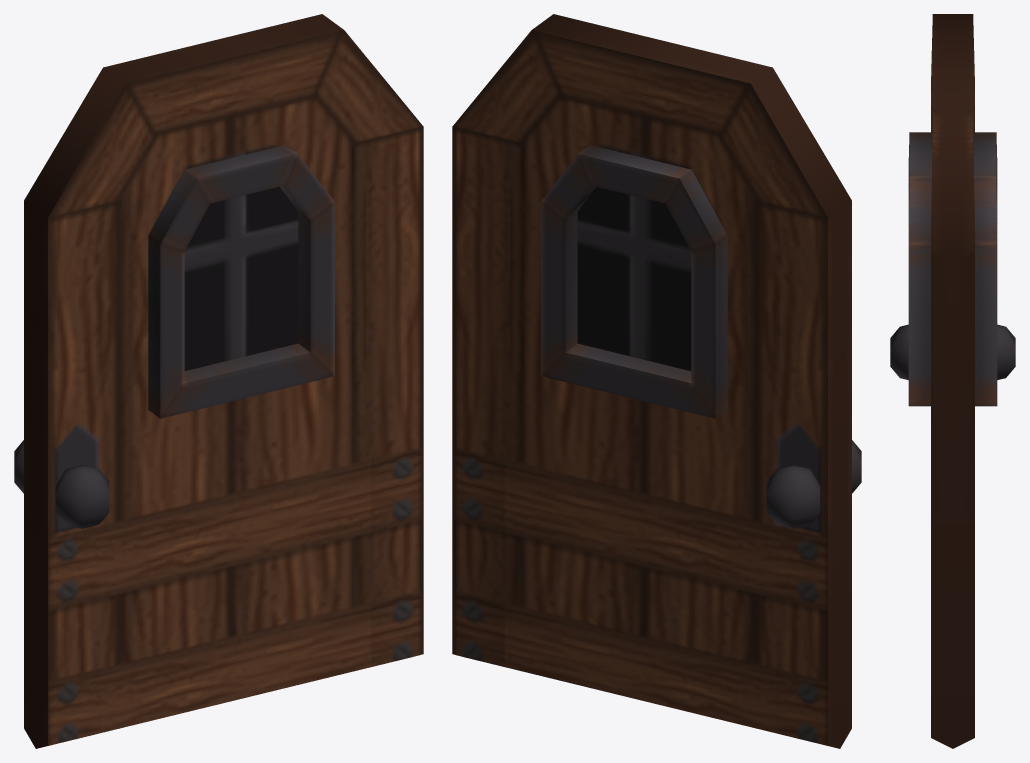
Rendered from Door1.fbx.
3 renders of one model, left to right at view 1: azimuth 30°, elevation 25°; view 2: azimuth 150°, elevation 25°; view 3: azimuth 270°, elevation 25°, orthographic. The views are drawn at different scales.
Parts seen in each view (by area): view 1: DoorMesh1; view 2: DoorMesh1; view 3: DoorMesh1.
Part boxes in pixels (x1,y1,x2,y2): DoorMesh1: (14,14,423,748); DoorMesh1: (452,14,861,748); DoorMesh1: (890,14,1015,748).
Bounding box in the file's own units: 7.45 × 12.36 × 2.33.
Materials: 1 (1 with a texture image).
